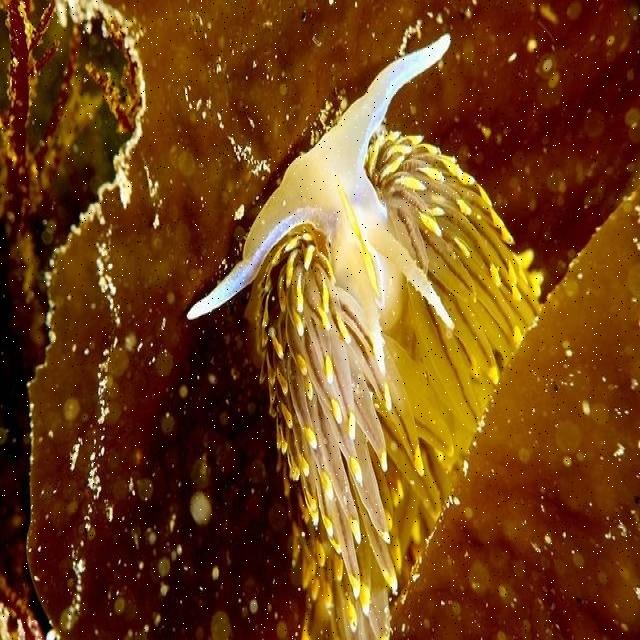aquatic plants: (253, 139, 542, 639), (4, 0, 141, 359)
reefs: (26, 1, 639, 639), (182, 36, 454, 380)
